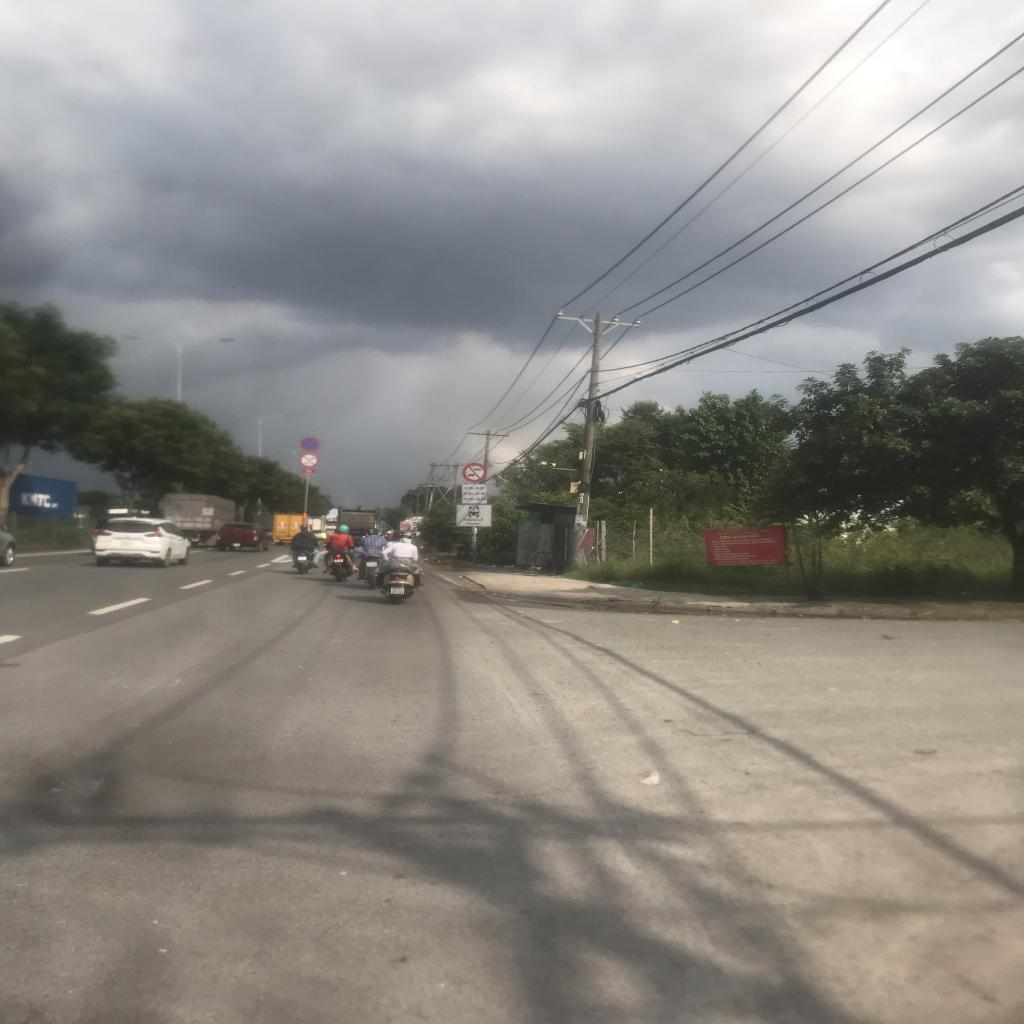cam_dung_xe_va_do_xe: (299, 437, 322, 452)
cam_o_to_tai_va_xe_khach: (463, 463, 487, 482)
cam_xe_2_banh_va_xe_3_banh_co_dong_co: (298, 454, 319, 468)
khac: (456, 505, 492, 527), (462, 484, 488, 504)
